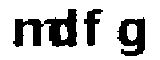d: (50, 7, 79, 52)
f: (80, 4, 103, 48)
g: (111, 15, 147, 60)
m: (10, 16, 58, 50)
